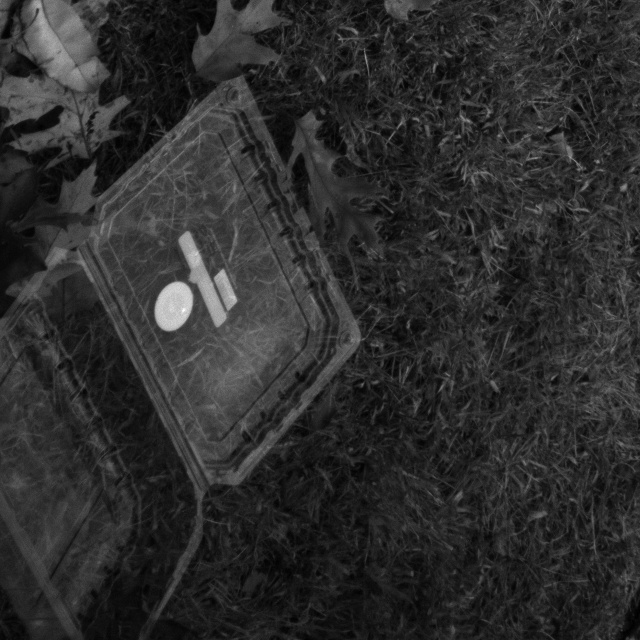container: (0, 61, 369, 640)
